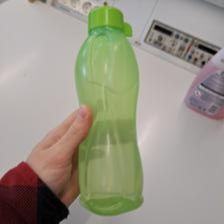bottle: (75, 4, 148, 214)
